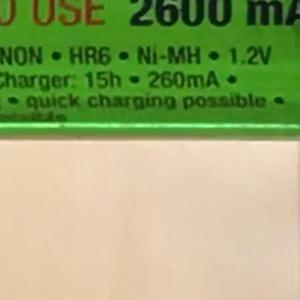NI-MH: (127, 35, 211, 75)
